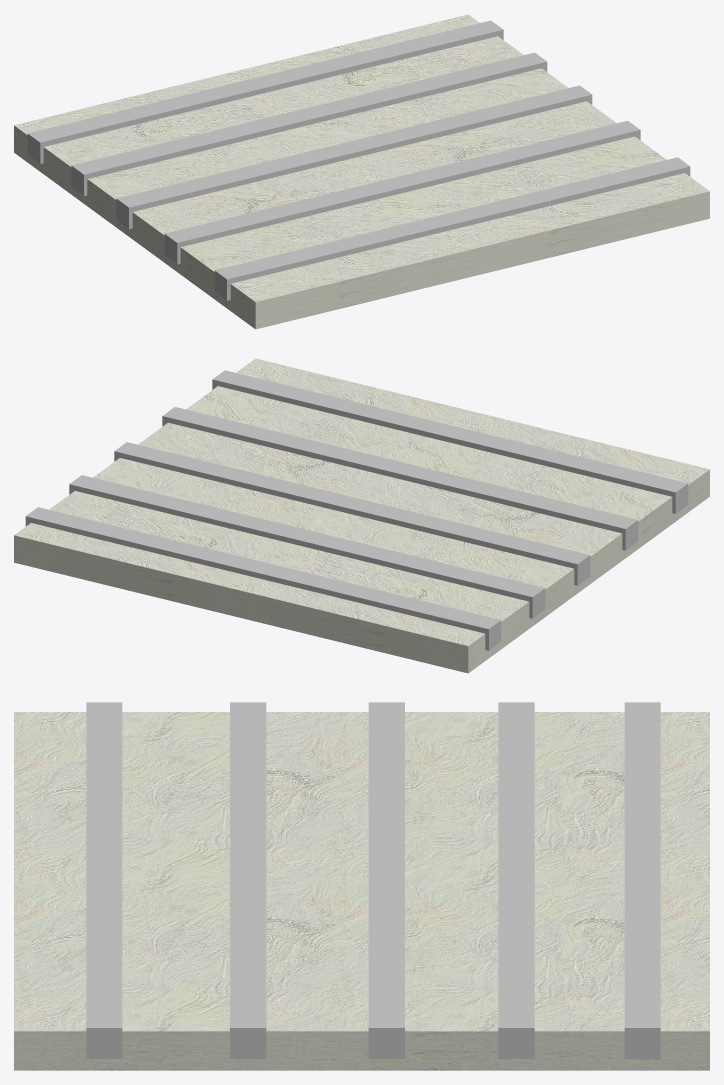
Rendered from Ceiling.fbx.
3 renders of one model, top to bottom at view 1: azimuth 30°, elevation 25°; view 2: azimuth 150°, elevation 25°; view 3: azimuth 270°, elevation 25°, orthographic. The views are drawn at different scales.
Parts seen in each view (by area): view 1: pCube1, pCube6, pCube2, pCube3, pCube4, pCube5; view 2: pCube1, pCube2, pCube5, pCube4, pCube6, pCube3; view 3: pCube1, pCube2, pCube3, pCube4, pCube5, pCube6.
Boxes of the visible parts, x1,y1,x2,y2 form: pCube1: [14, 14, 709, 329]; pCube6: [214, 157, 690, 300]; pCube2: [27, 20, 503, 164]; pCube3: [71, 52, 547, 196]; pCube4: [116, 85, 592, 229]; pCube5: [164, 120, 640, 264]; pCube1: [14, 358, 709, 673]; pCube2: [25, 507, 501, 650]; pCube5: [162, 407, 638, 550]; pCube4: [114, 442, 590, 585]; pCube6: [212, 370, 688, 513]; pCube3: [69, 475, 545, 618]; pCube1: [14, 712, 709, 1070]; pCube2: [624, 702, 660, 1058]; pCube3: [498, 702, 534, 1058]; pCube4: [368, 702, 404, 1058]; pCube5: [230, 702, 266, 1058]; pCube6: [86, 702, 122, 1058].
Size of the model in its own units: 24.67 by 1.65 by 22.28.
